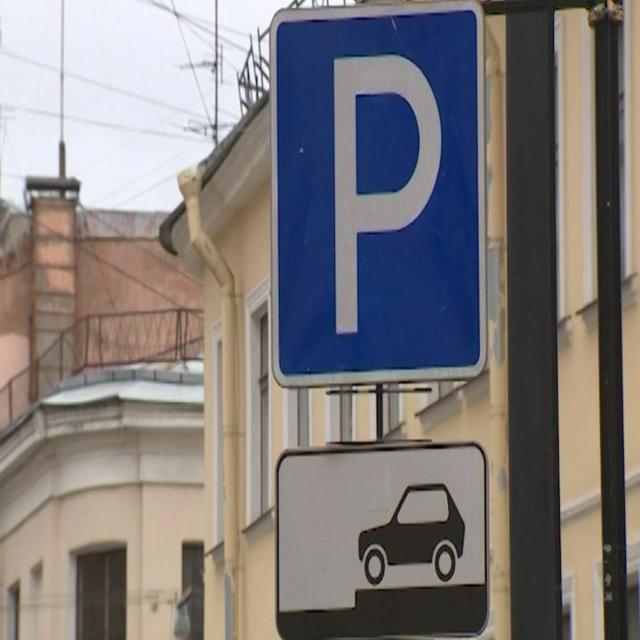parking: (268, 9, 490, 385)
